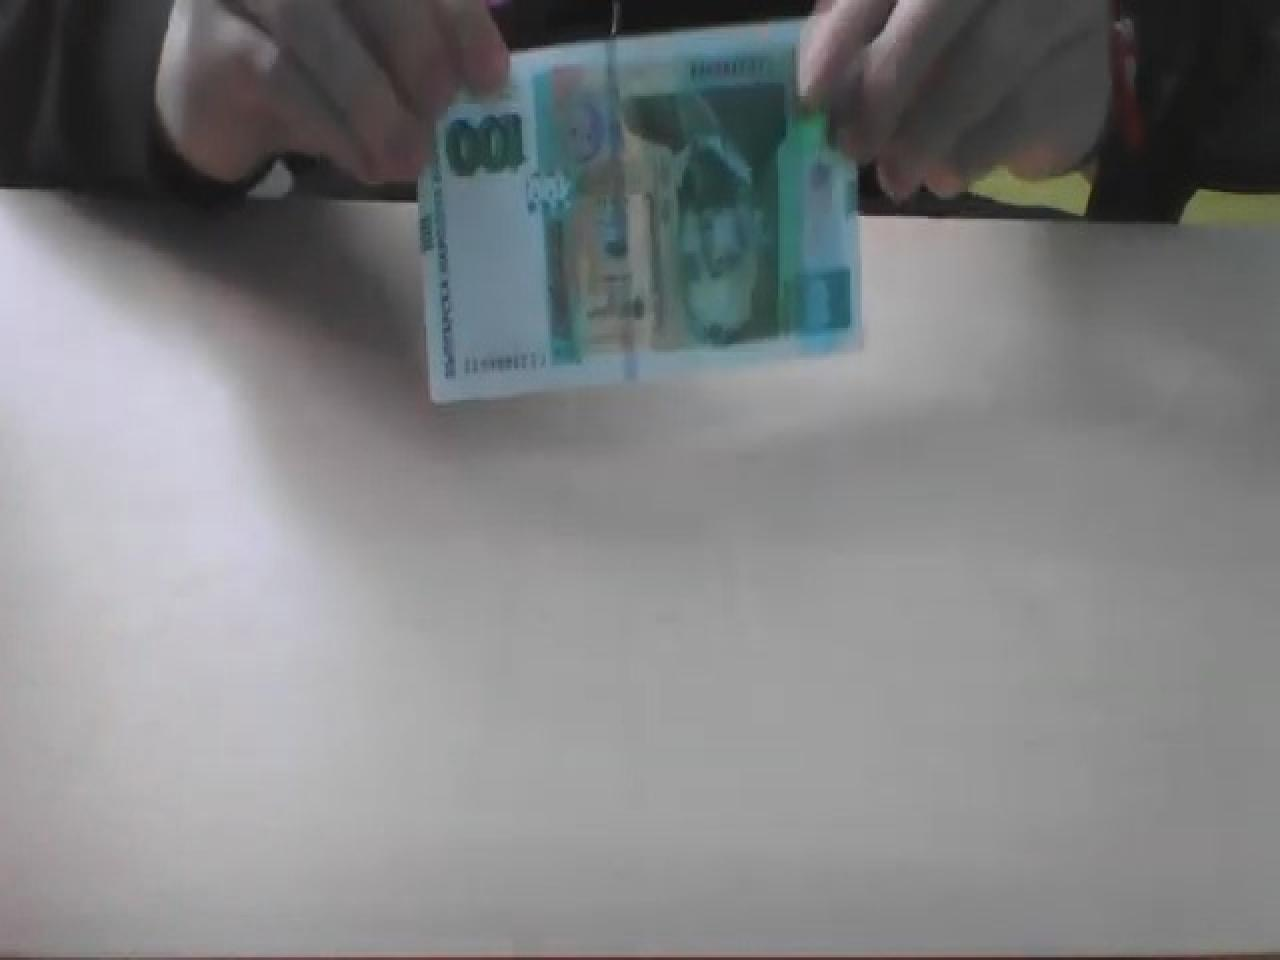100leva: (418, 19, 866, 405)
